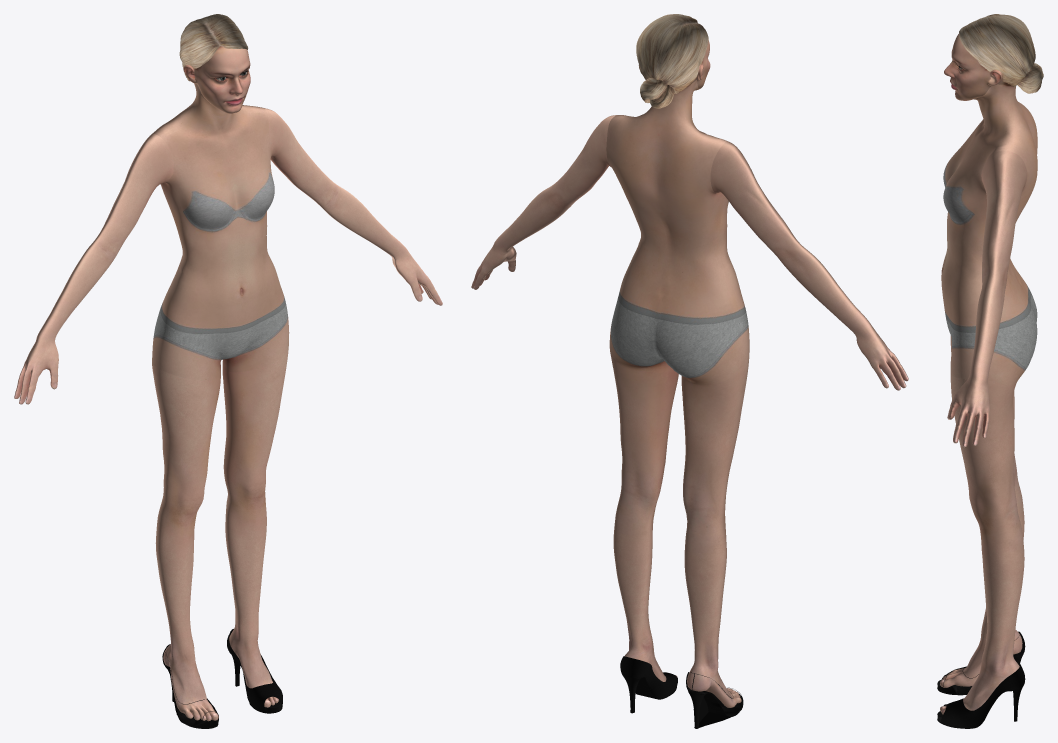
Rendered from mannequin-anna.glb.
The picture shows the model from 3 angles, left to right: view 1: azimuth 30°, elevation 25°; view 2: azimuth 150°, elevation 25°; view 3: azimuth 270°, elevation 25°; orthographic projection. The views are drawn at different scales.
Visible parts, largest first — view 1: body, hair_Shape, shoes_l_Shape; view 2: body, hair_Shape, shoes_l_Shape, shoes_r_Shape; view 3: body, hair_Shape, shoes_l_Shape, shoes_r_Shape.
Boxes of the visible parts, x1,y1,x2,y2 form: body: (14, 46, 442, 721); hair_Shape: (179, 14, 248, 81); shoes_l_Shape: (227, 629, 282, 713); body: (471, 40, 908, 707); hair_Shape: (636, 14, 708, 108); shoes_l_Shape: (620, 656, 677, 713); shoes_r_Shape: (686, 672, 743, 728); body: (940, 33, 1037, 714); hair_Shape: (959, 14, 1043, 93); shoes_l_Shape: (937, 663, 1025, 728); shoes_r_Shape: (937, 631, 1025, 695).
Size of what is drawn, in the model's own units: 1212 by 1879 by 263.
Materials: 13 (13 with a texture image).
